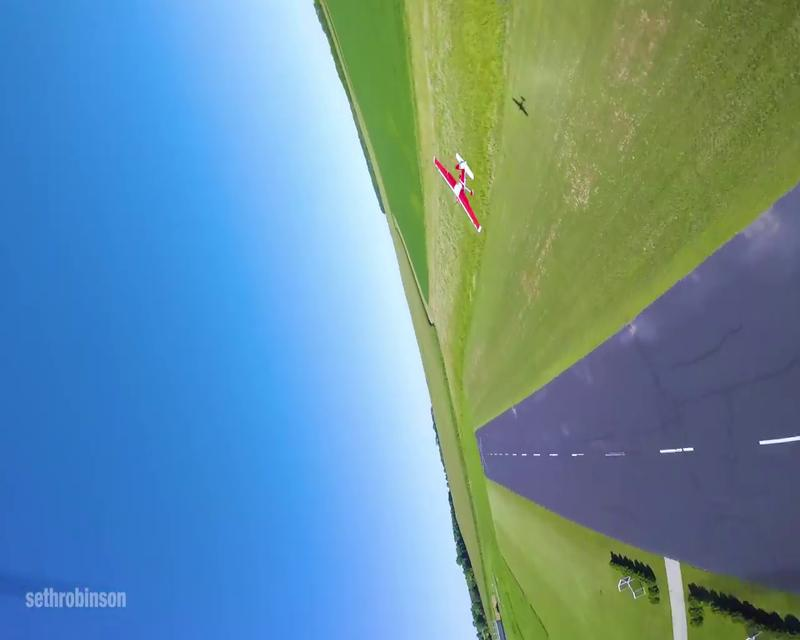UAV: (432, 152, 483, 234)
